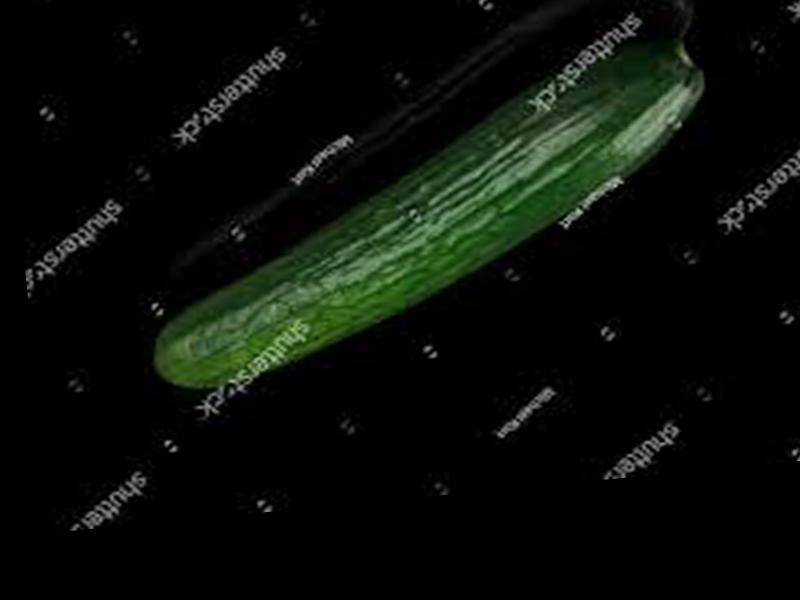Cucumber: (123, 28, 728, 395)
